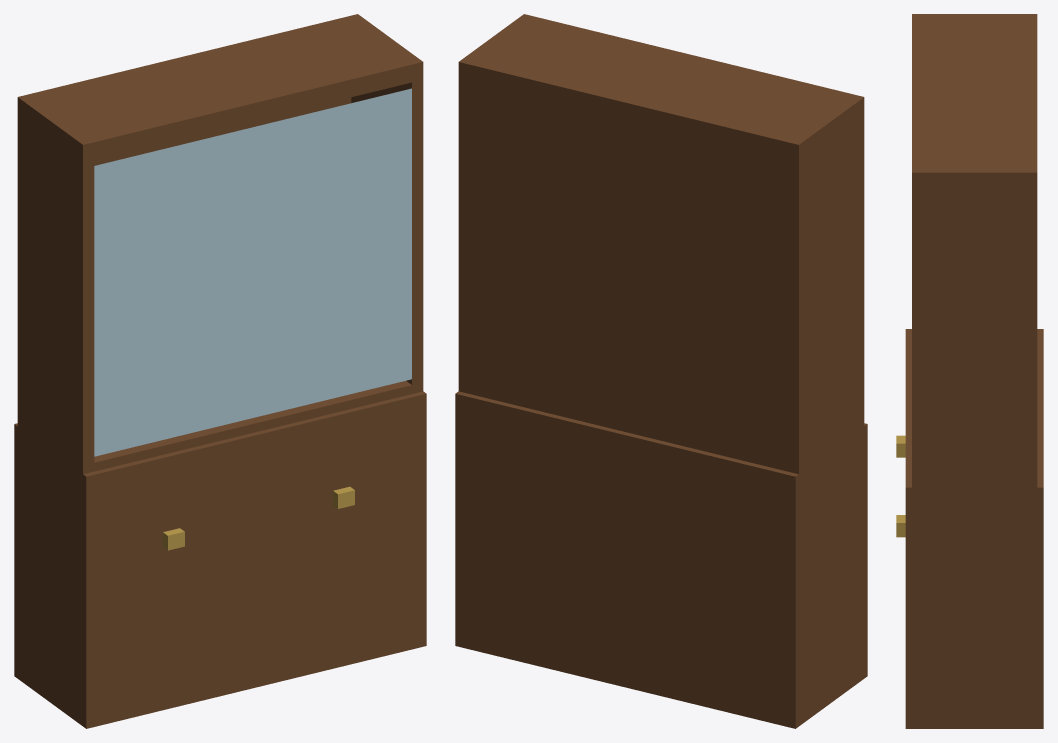
File: Interior_Cupboard.obj
The picture shows the model from 3 angles, left to right: view 1: azimuth 30°, elevation 25°; view 2: azimuth 150°, elevation 25°; view 3: azimuth 270°, elevation 25°; orthographic projection. The views are drawn at different scales.
Visible parts, largest first — view 1: Interior_Cupboard; view 2: Interior_Cupboard; view 3: Interior_Cupboard.
Part boxes in pixels (<box>): Interior_Cupboard: <box>14,14,426,728</box>; Interior_Cupboard: <box>455,14,867,728</box>; Interior_Cupboard: <box>896,14,1043,728</box>.
Size of the model in its own units: 1.2 by 1.96 by 0.47.
